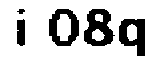0: (43, 5, 81, 51)
8: (82, 7, 115, 48)
i: (13, 6, 36, 50)
q: (117, 12, 149, 60)
